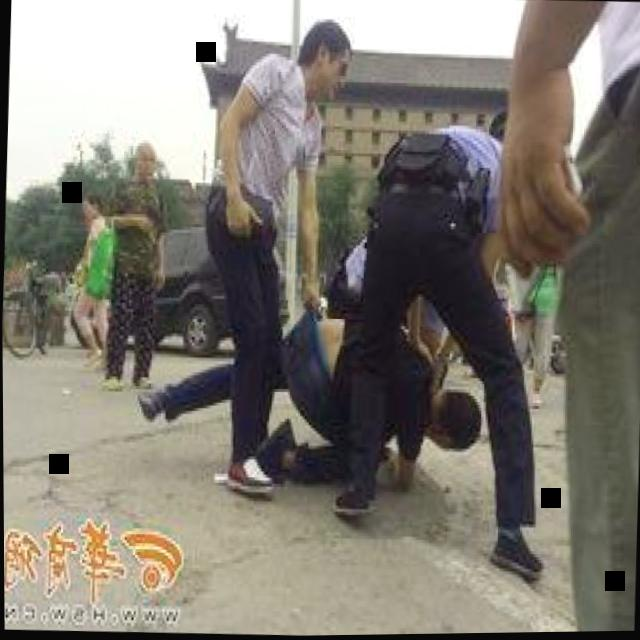Fall-Detected: (150, 267, 485, 499)
